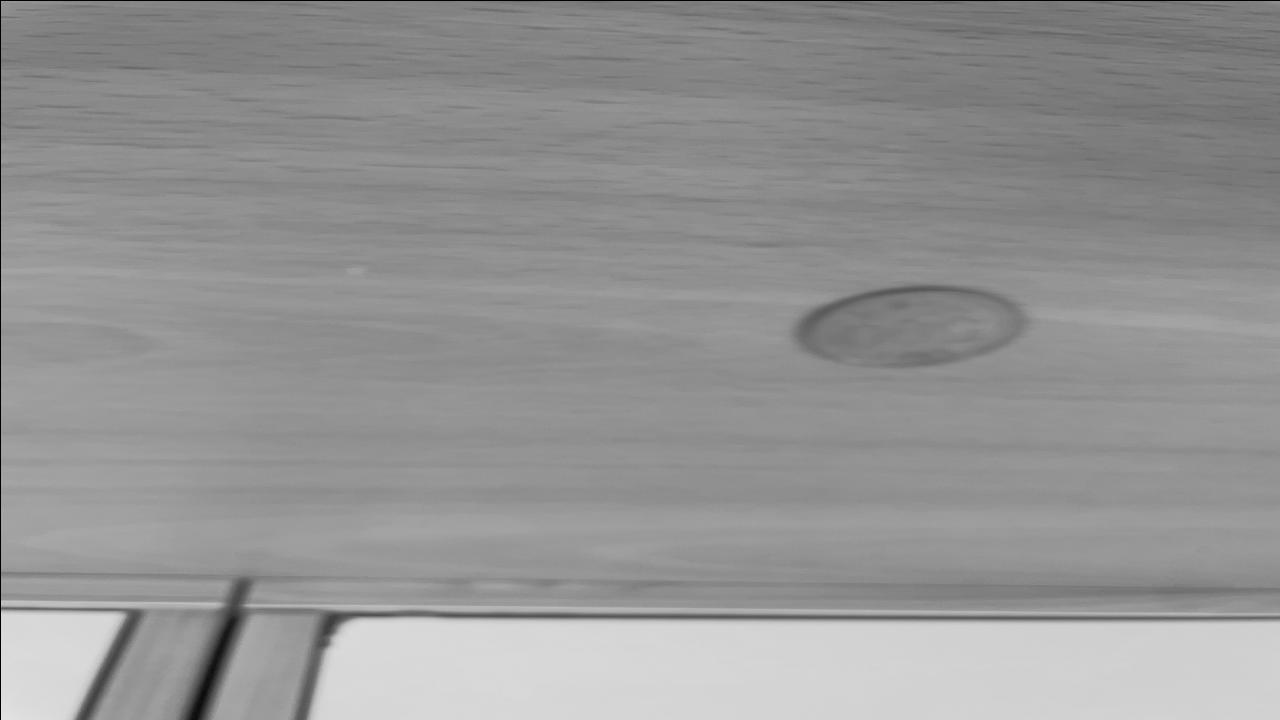coin: (799, 285, 1028, 369)
